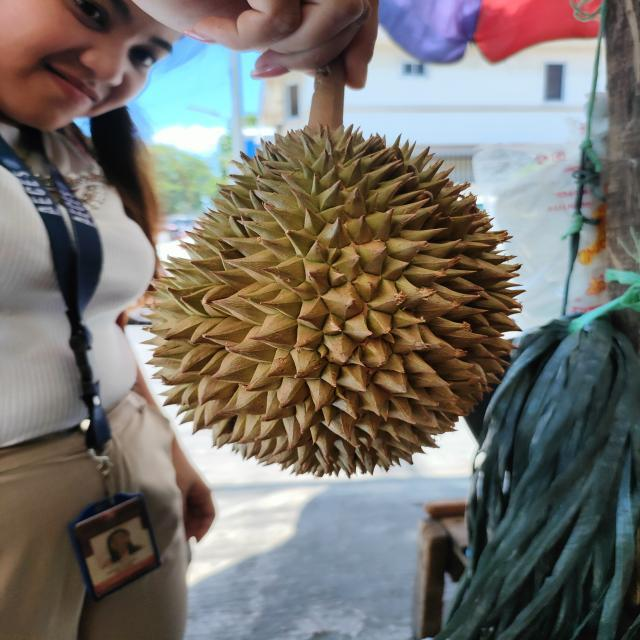mature: (142, 125, 528, 481)
